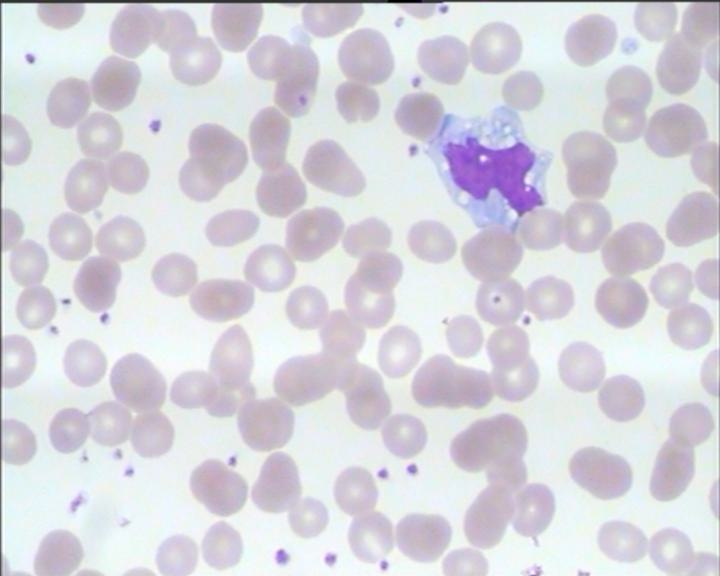mono: (424, 101, 551, 238)
